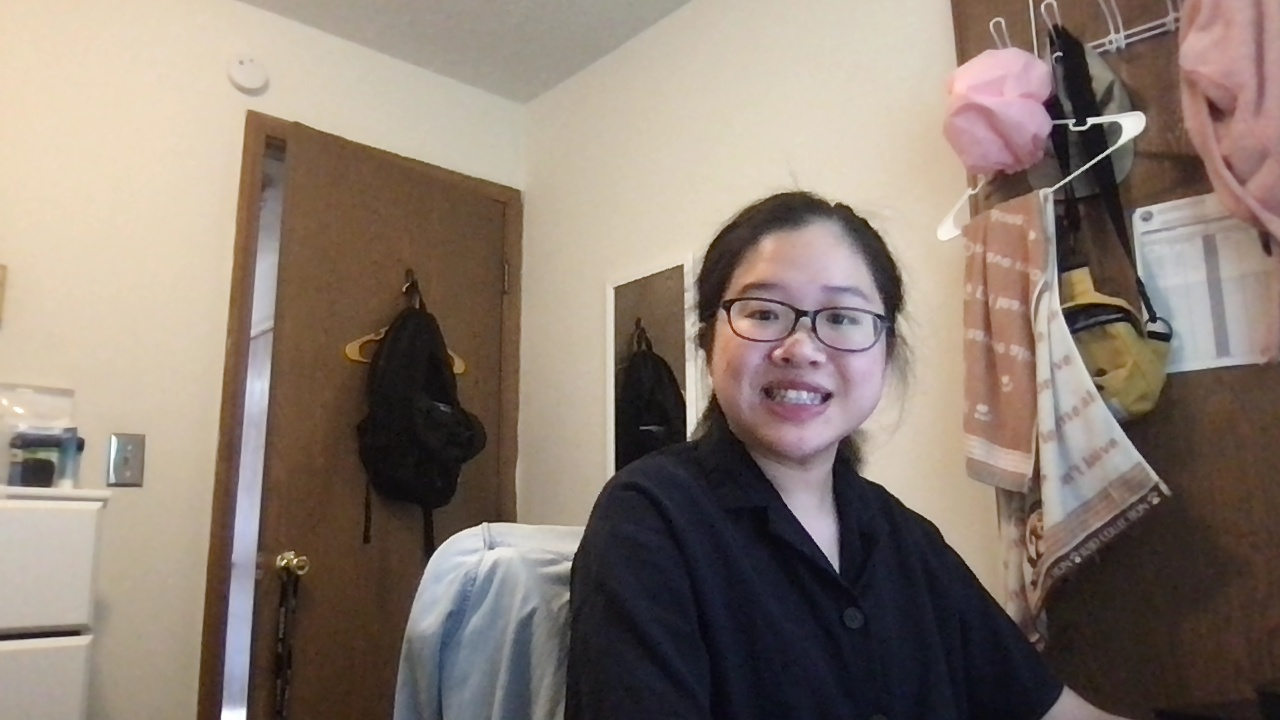NoMask: (712, 343, 885, 456)
